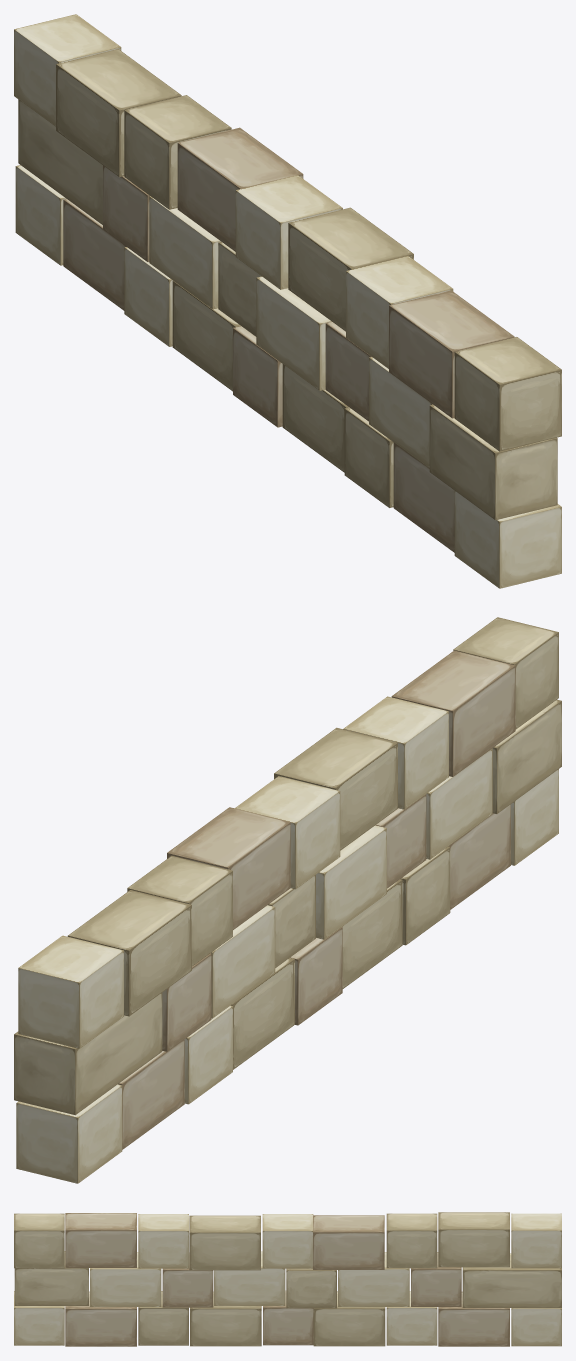
The model's file is mur_state4.FBX.
3 renders of one model, top to bottom at view 1: azimuth 30°, elevation 25°; view 2: azimuth 150°, elevation 25°; view 3: azimuth 270°, elevation 25°, orthographic. The views are drawn at different scales.
Parts seen in each view (by area): view 1: Box125, Box124, Box122, Box104, Box126, Box128, Box123, Box115, Box127, Box103, Box121, Box129 (+14 smaller); view 2: Box121, Box119, Box122, Box104, Box126, Box128, Box117, Box103, Box127, Box125, Box115, Box129 (+14 smaller); view 3: Box119, Box122, Box128, Box104, Box126, Box106, Box101, Box112, Box115, Box124, Box118, Box121 (+14 smaller).
Part boxes in pixels (x1,y1,x2,y2): Box125: (454,337,561,451); Box124: (429,404,557,520); Box122: (56,49,181,177); Box104: (389,290,514,418); Box126: (177,127,303,251); Box128: (288,207,413,331); Box123: (454,491,561,588); Box115: (124,95,231,209); Box127: (235,175,342,289); Box103: (346,256,453,368); Box121: (14,14,121,126); Box129: (256,276,331,390); Box121: (18,935,123,1048); Box119: (14,993,162,1115); Box122: (67,890,191,1016); Box104: (391,650,515,776); Box126: (167,807,290,929); Box128: (274,727,397,850); Box117: (16,1084,122,1183); Box103: (343,696,448,809); Box127: (234,776,340,889); Box125: (453,617,558,729); Box115: (127,855,232,966); Box129: (316,825,386,939); Box119: (462,1253,561,1307); Box122: (438,1212,509,1267); Box128: (189,1215,260,1270); Box104: (65,1213,136,1267); Box126: (313,1215,384,1269); Box106: (190,1291,261,1346); Box101: (65,1291,136,1346); Box112: (313,1291,385,1346); Box115: (386,1213,437,1268); Box124: (14,1251,88,1305); Box118: (438,1291,509,1346); Box121: (511,1213,561,1268).
Bounding box in the file's own units: 0.181 × 0.4771 × 2.06.
